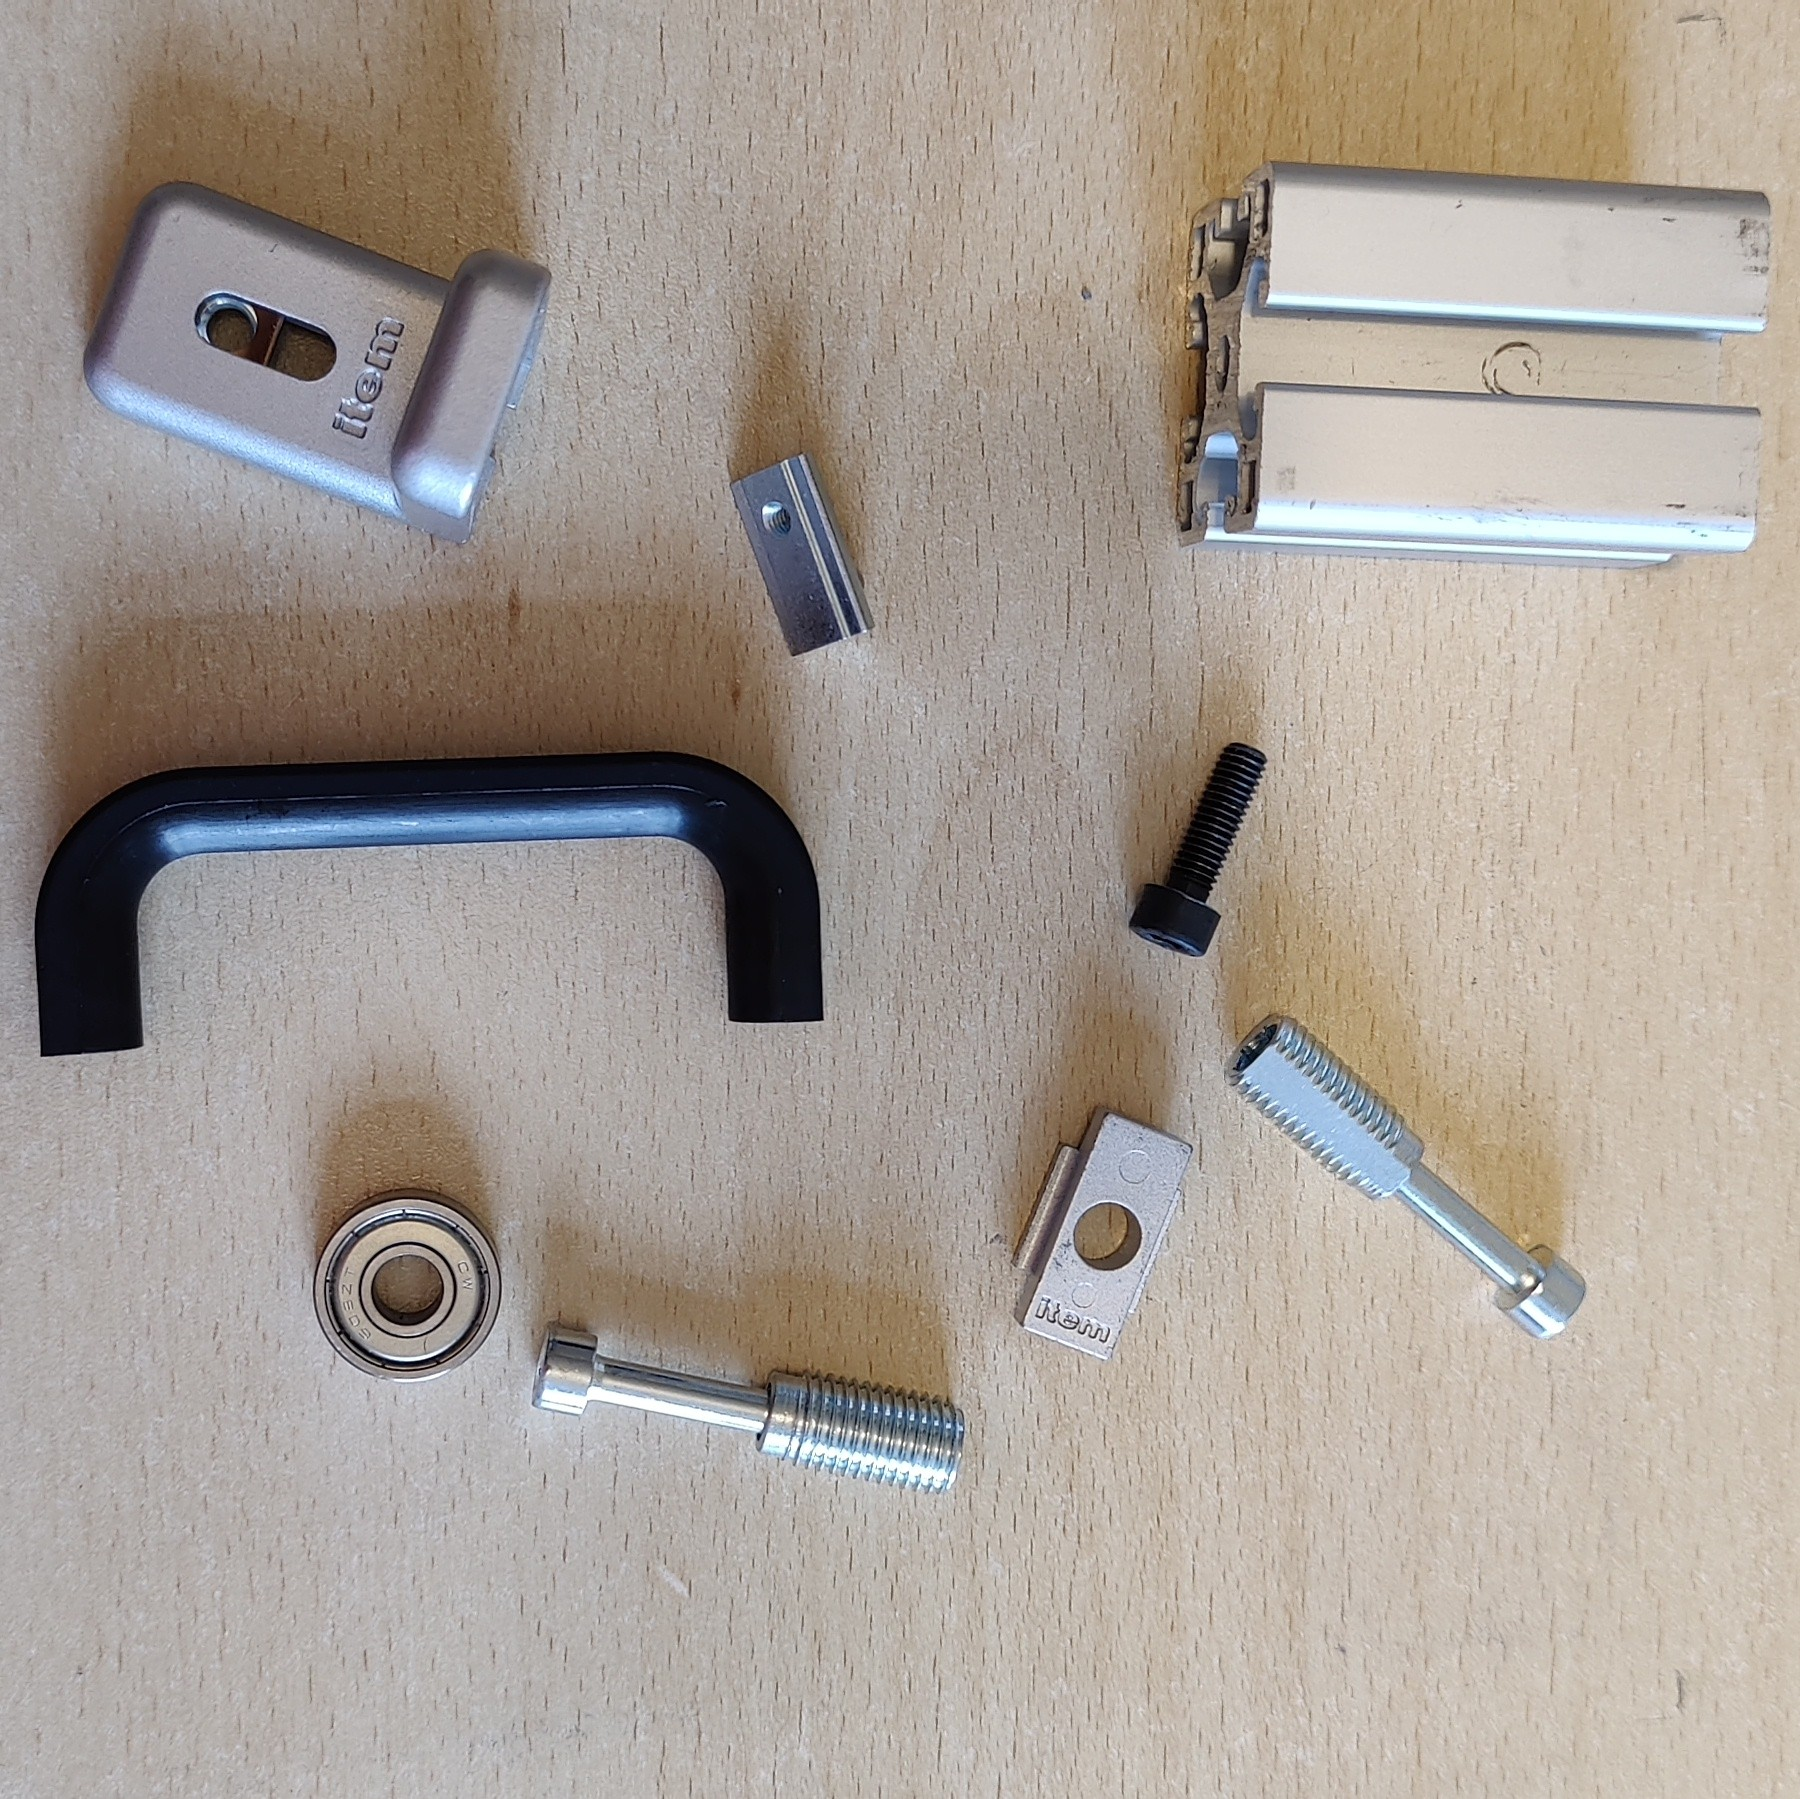Aluminium Extension: (1169, 158, 1775, 573)
Ball Bearing: (311, 1185, 506, 1385)
Multiwinkel: (81, 176, 557, 549)
Pull Handle: (30, 746, 828, 1059)
Shoulder Socket Head Cap Screw: (1220, 1007, 1589, 1339), (529, 1313, 967, 1498)
Socket Head Cap Screw: (1126, 738, 1271, 960)
T Nut Square: (1010, 1102, 1196, 1366)
T Spring Nut: (726, 446, 878, 661)
